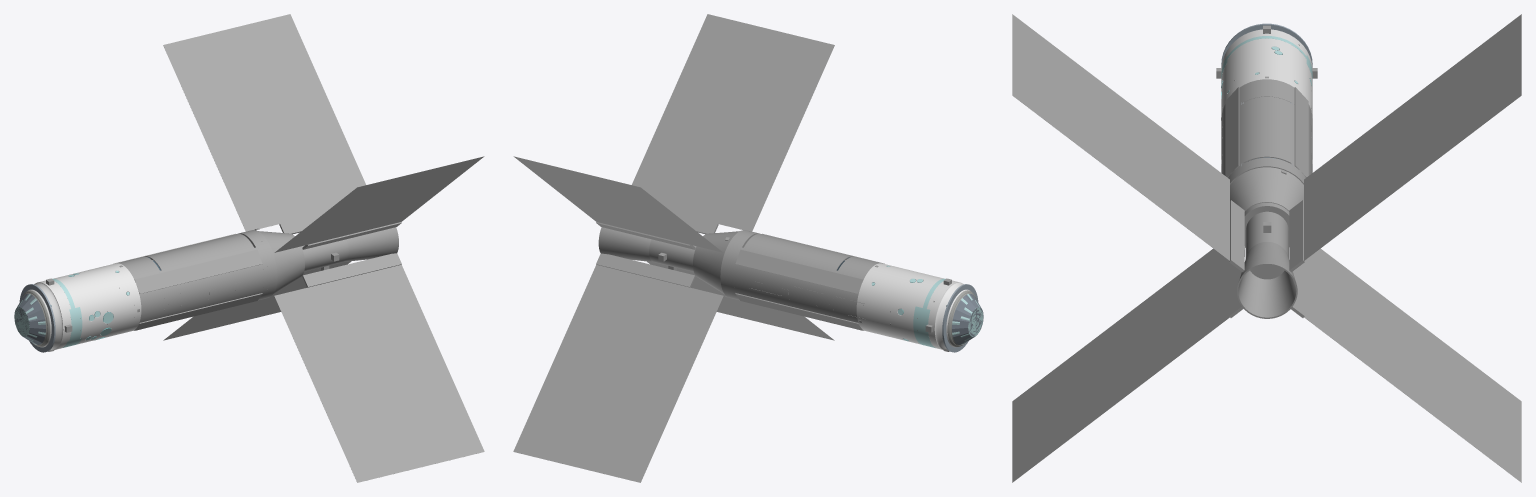
Rendered from wayfarer_shuttle_hold_fullship_88ce19fc_stowed_closed.glb.
The picture shows the model from 3 angles, left to right: view 1: azimuth 30°, elevation 25°; view 2: azimuth 150°, elevation 25°; view 3: azimuth 270°, elevation 25°; orthographic projection. The views are drawn at different scales.
Visible parts, largest first — view 1: dry:hotfin_220:folded_envelope, dry:hotfin_40:folded_envelope, dry:hotfin_140:folded_envelope, dry:armor, dry:skin_midship, dry:hotfin_320:folded_envelope, dry:strake_140:stowed_stack, dry:thrust_cone, dry:skin_service, dry:door_port, dry:hotfin_root_220:root, dry:nozzle (+4 smaller); view 2: dry:hotfin_320:folded_envelope, dry:hotfin_140:folded_envelope, dry:hotfin_40:folded_envelope, dry:armor, dry:skin_midship, dry:hotfin_220:folded_envelope, dry:strake_40:stowed_stack, dry:skin_service, dry:thrust_cone, dry:door_starboard, dry:hotfin_root_320:root, dry:nozzle (+4 smaller); view 3: dry:hotfin_40:folded_envelope, dry:hotfin_140:folded_envelope, dry:hotfin_220:folded_envelope, dry:hotfin_320:folded_envelope, dry:armor, dry:nozzle, dry:thrust_cone, dry:reactor, dry:door_port, dry:door_starboard, dry:skin_service, dry:strake_40:stowed_stack (+7 smaller).
Boxes of the visible parts, x1,y1,x2,y2 form: dry:hotfin_220:folded_envelope: (274,264,484,482); dry:hotfin_40:folded_envelope: (163,14,365,231); dry:hotfin_140:folded_envelope: (274,156,484,252); dry:armor: (23,263,141,350); dry:skin_midship: (160,247,263,316); dry:hotfin_320:folded_envelope: (163,261,351,340); dry:strake_140:stowed_stack: (134,249,262,293); dry:thrust_cone: (258,231,304,293); dry:skin_service: (117,256,168,330); dry:door_port: (152,236,253,270); dry:hotfin_root_220:root: (302,253,401,287); dry:nozzle: (345,227,398,261); dry:hotfin_320:folded_envelope: (513,264,723,482); dry:hotfin_140:folded_envelope: (632,14,834,231); dry:hotfin_40:folded_envelope: (513,156,723,252); dry:armor: (856,263,974,350); dry:skin_midship: (734,247,837,316); dry:hotfin_220:folded_envelope: (647,261,834,340); dry:strake_40:stowed_stack: (735,249,863,293); dry:skin_service: (829,256,880,330); dry:thrust_cone: (693,231,739,293); dry:door_starboard: (744,236,845,270); dry:hotfin_root_320:root: (596,253,695,287); dry:nozzle: (598,227,652,261); dry:hotfin_40:folded_envelope: (1304,14,1521,260); dry:hotfin_140:folded_envelope: (1012,14,1229,260); dry:hotfin_220:folded_envelope: (1012,248,1229,482); dry:hotfin_320:folded_envelope: (1304,248,1521,482); dry:armor: (1221,29,1312,117); dry:nozzle: (1237,242,1297,318); dry:thrust_cone: (1230,167,1303,247); dry:reactor: (1245,211,1288,279); dry:door_port: (1242,97,1266,163); dry:door_starboard: (1267,97,1291,163); dry:skin_service: (1221,79,1312,135); dry:strake_40:stowed_stack: (1294,87,1308,177).
Size of the model in its own units: 54.5 by 42.11 by 50.18.
